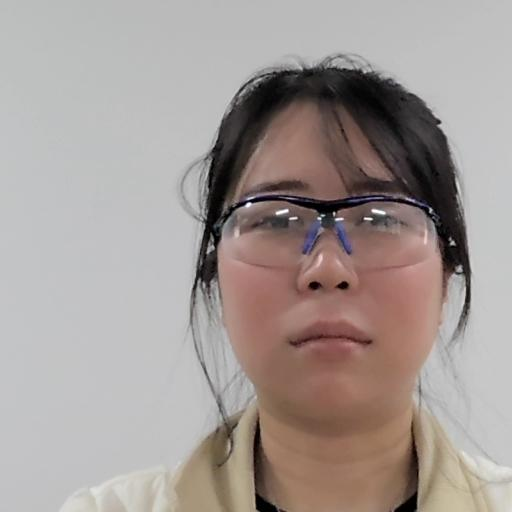glasses: (185, 55, 469, 417)
